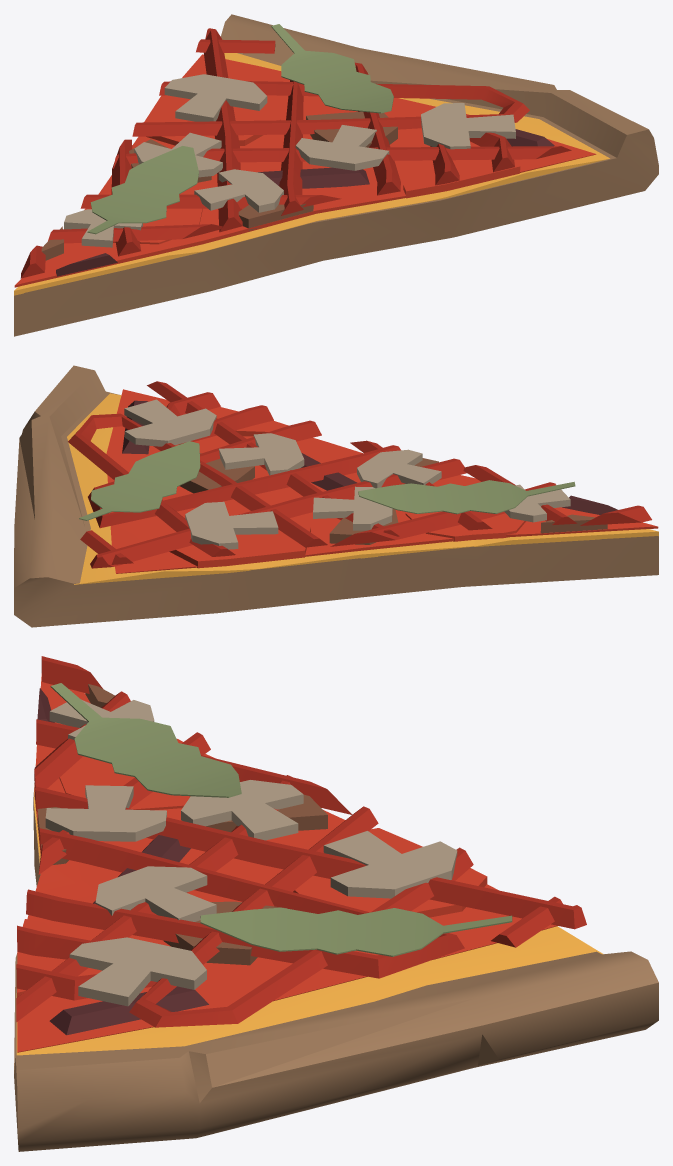
Rendered from SM_Slice_Of_Pizza.fbx.
The picture shows the model from 3 angles, top to bottom: view 1: azimuth 30°, elevation 25°; view 2: azimuth 150°, elevation 25°; view 3: azimuth 270°, elevation 25°; orthographic projection. The views are drawn at different scales.
Visible parts, largest first — view 1: SM_Slice_Of_Pizza; view 2: SM_Slice_Of_Pizza; view 3: SM_Slice_Of_Pizza.
Boxes of the visible parts, box(x1,y1,x2,y2) form: SM_Slice_Of_Pizza: box(14, 14, 658, 336); SM_Slice_Of_Pizza: box(14, 365, 658, 627); SM_Slice_Of_Pizza: box(14, 656, 658, 1151).
Size of the model in its own units: 22.36 by 2.69 by 14.41.
